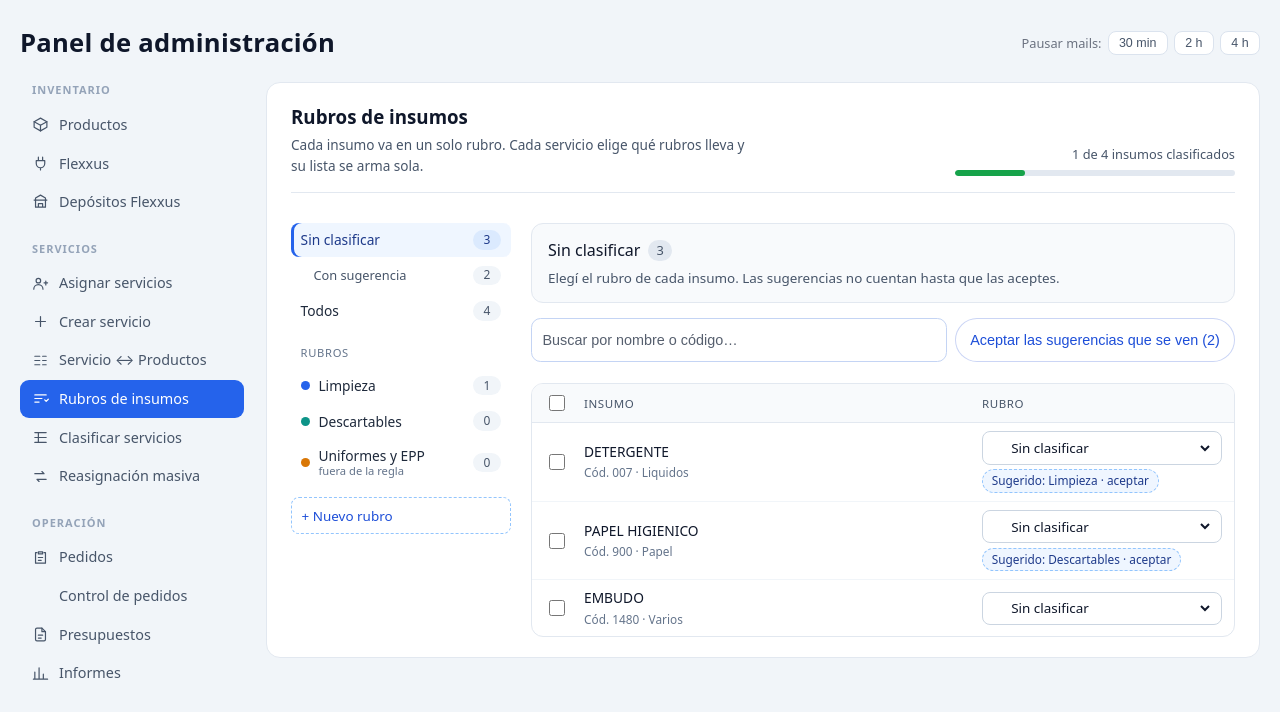
Test case: Rubros de insumos › la cantidad del rubro cambia en vivo antes de guardar
The image size is (1280, 712).
Expected: the heading "Rubros de insumos" is shown, [291,104,468,129]
Expected: the dropdown named "Rubro de DETERGENTE" is shown, [1007,432,1213,464]
Select "Limpieza" in the dropdown named "Rubro de EMBUDO": point(1110, 608) [1007,593,1213,624]
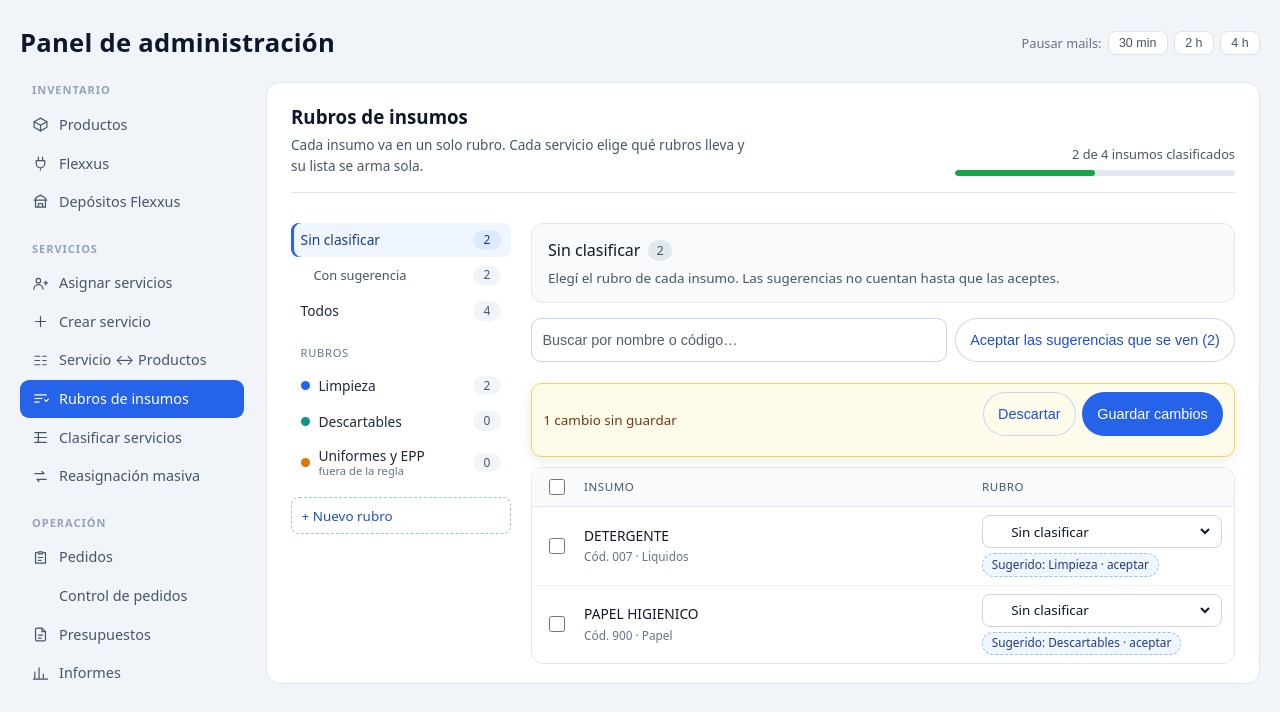
Result: the button "Limpieza 2" is shown at [291,369,511,403]
Result: the button "Sin clasificar 2" is shown at [291,223,511,257]
